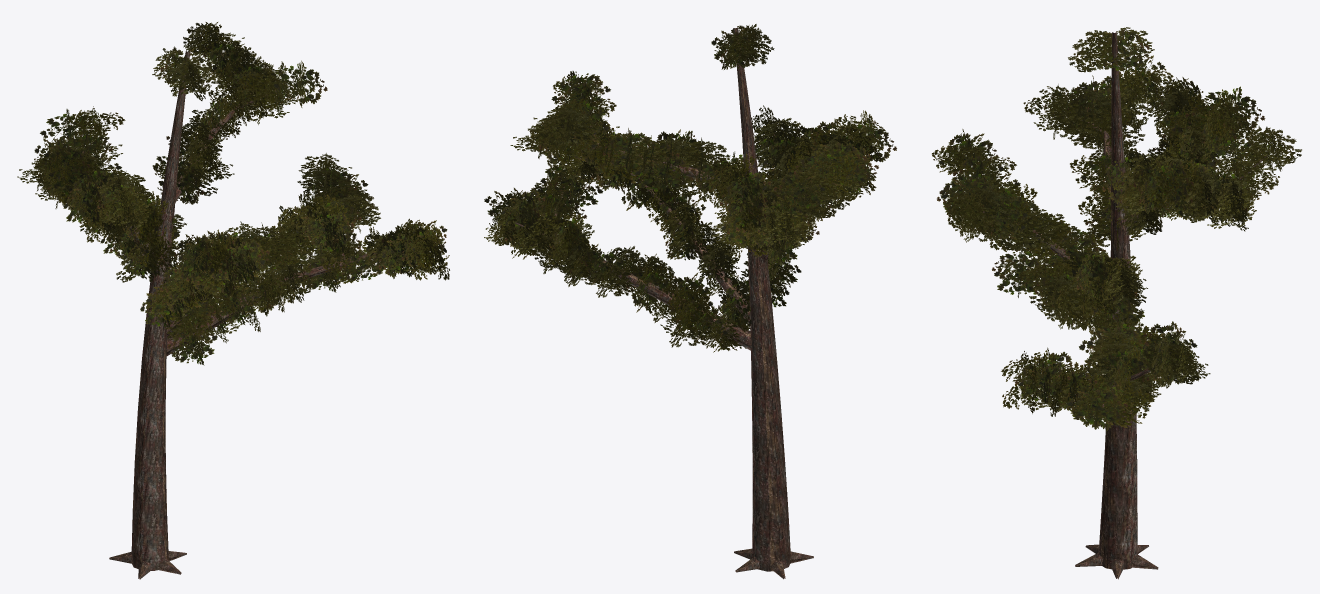
The model's file is tree_3d_04_lod0.glb.
The picture shows the model from 3 angles, left to right: view 1: azimuth 30°, elevation 25°; view 2: azimuth 150°, elevation 25°; view 3: azimuth 270°, elevation 25°; orthographic projection. The views are drawn at different scales.
Visible parts, largest first — view 1: foliage_cards, wood_geometry; view 2: foliage_cards, wood_geometry; view 3: foliage_cards, wood_geometry.
Part boxes in pixels (left/top/right/bottom): foliage_cards: left=17, top=22, right=449, bottom=365; wood_geometry: left=72, top=51, right=420, bottom=579; foliage_cards: left=484, top=24, right=896, bottom=352; wood_geometry: left=515, top=27, right=859, bottom=579; foliage_cards: left=932, top=27, right=1301, bottom=434; wood_geometry: left=964, top=32, right=1268, bottom=579.
Bounding box in the file's own units: 9.37 × 11.59 × 7.14.
Materials: 2 (2 with a texture image).
